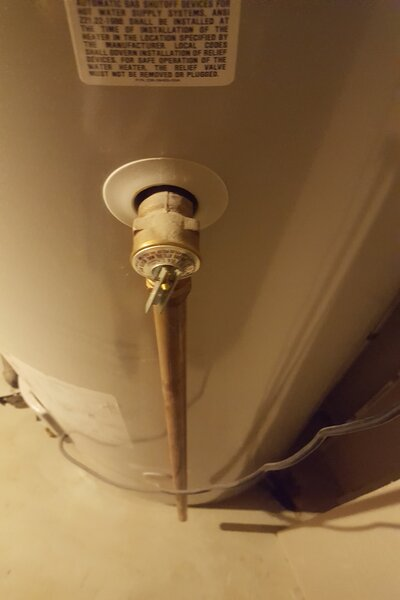valve: (128, 188, 203, 336)
